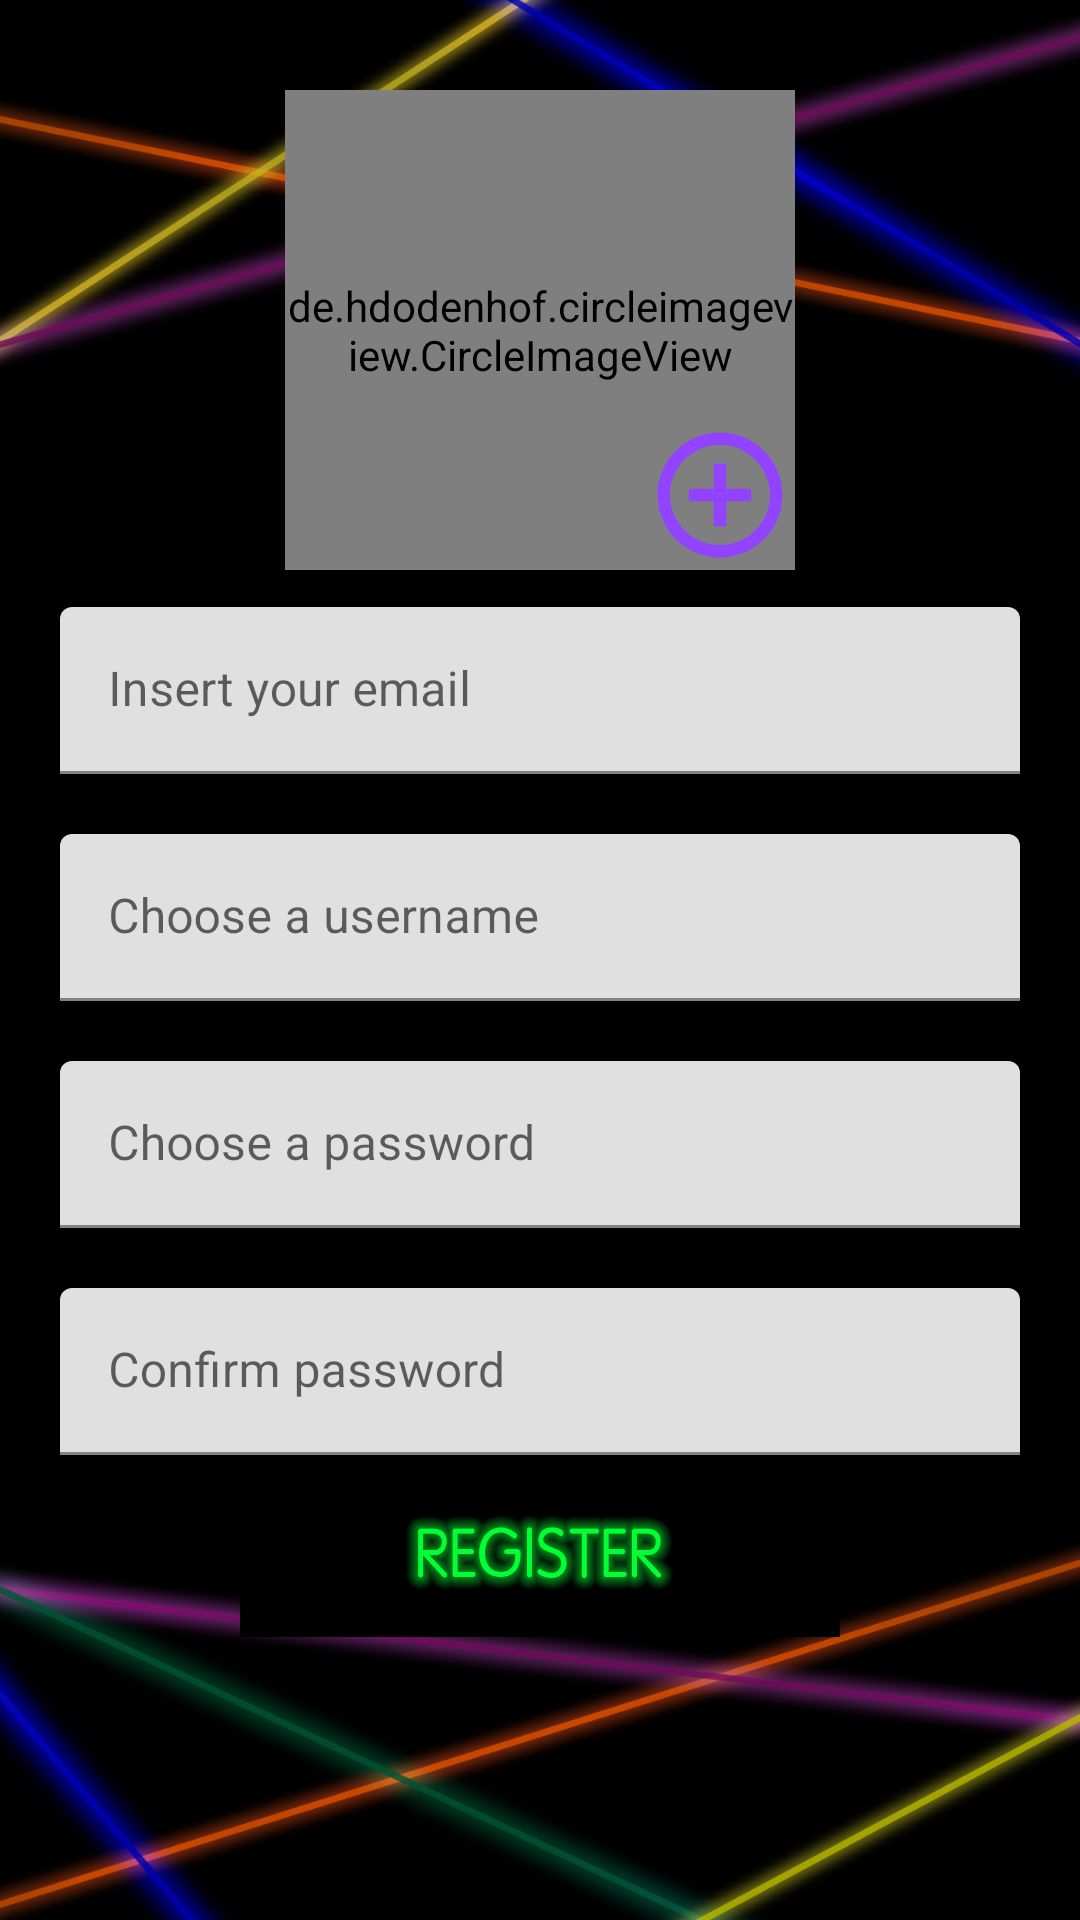

Icon click points for this 1080 × 1920 phone screenshot, format [x,y]:
add circle: [720,495]
